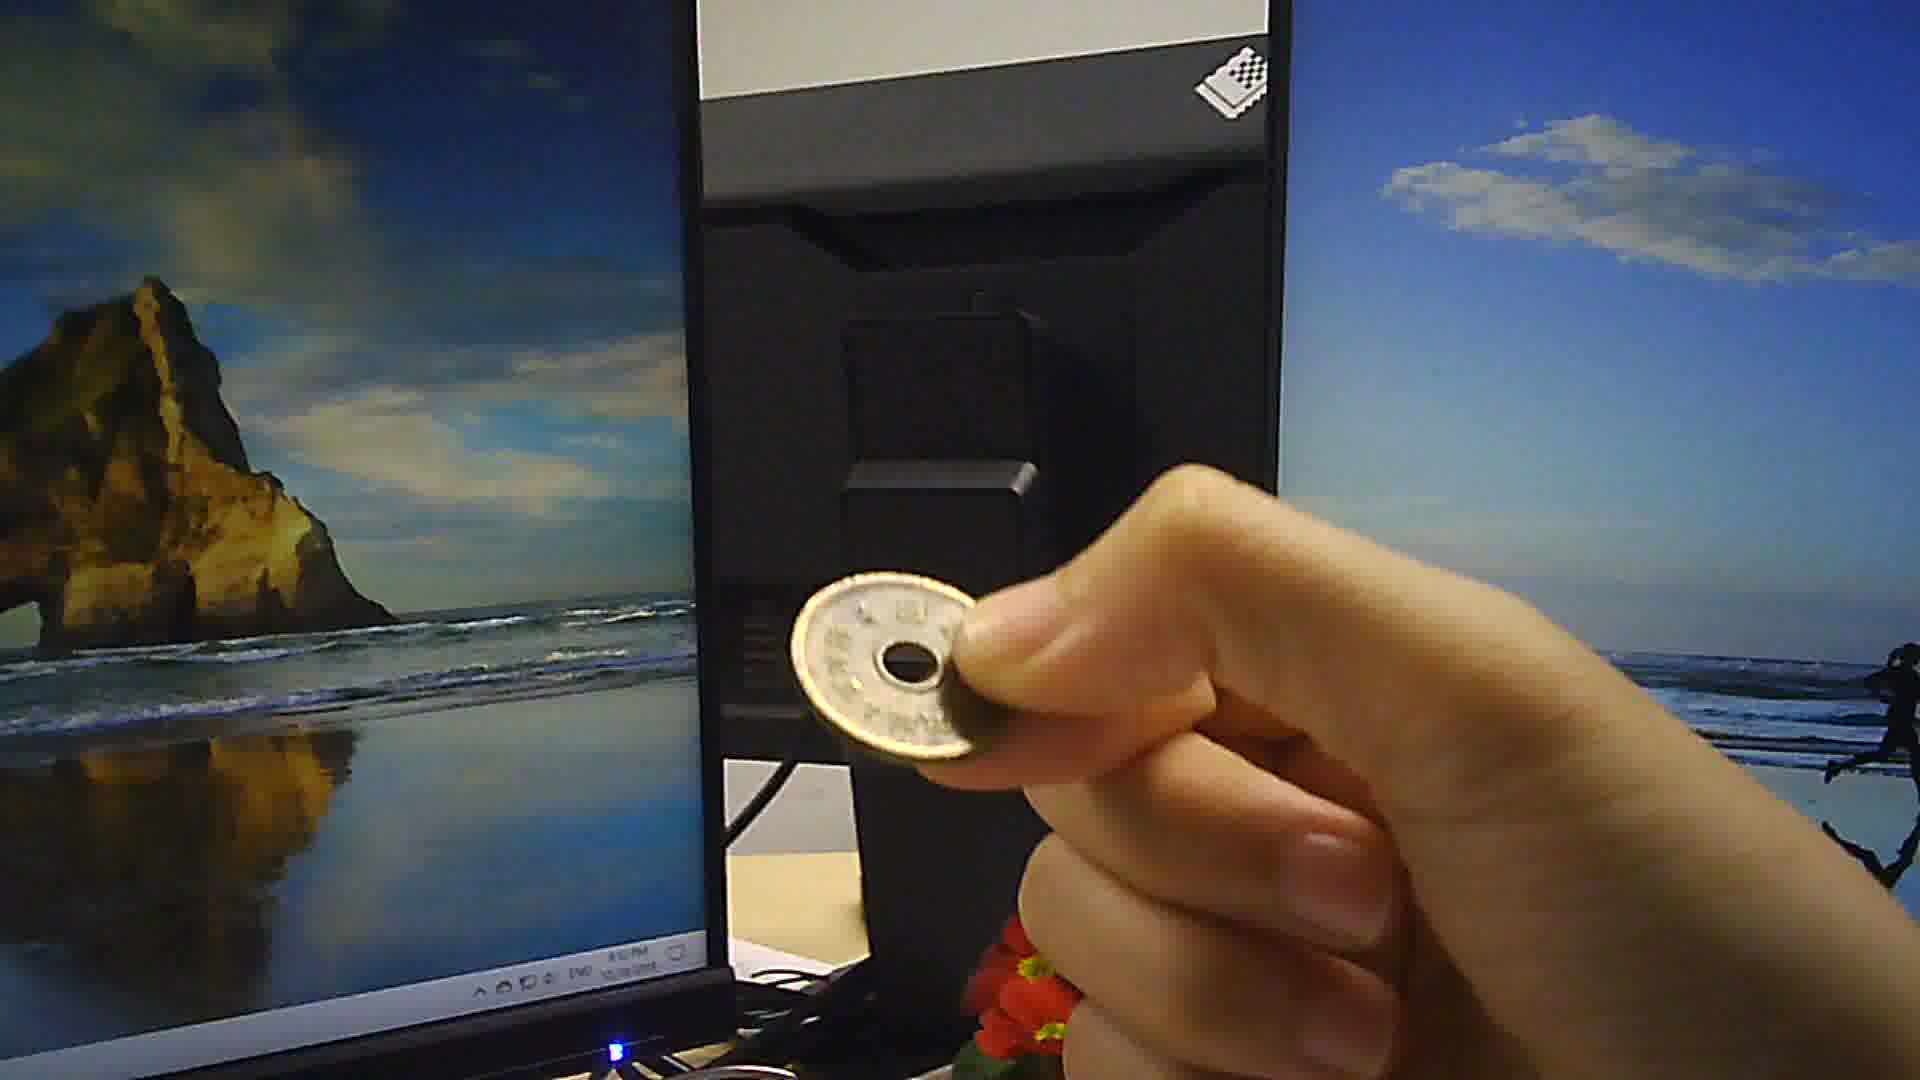5 Yen: (787, 568, 1002, 762)
